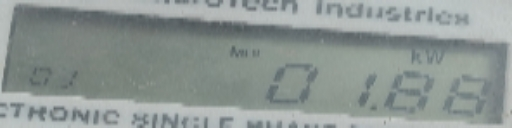0: (265, 61, 320, 109)
1: (322, 63, 377, 111)
8: (384, 69, 439, 117), (438, 71, 493, 119)
d: (368, 99, 385, 116)
